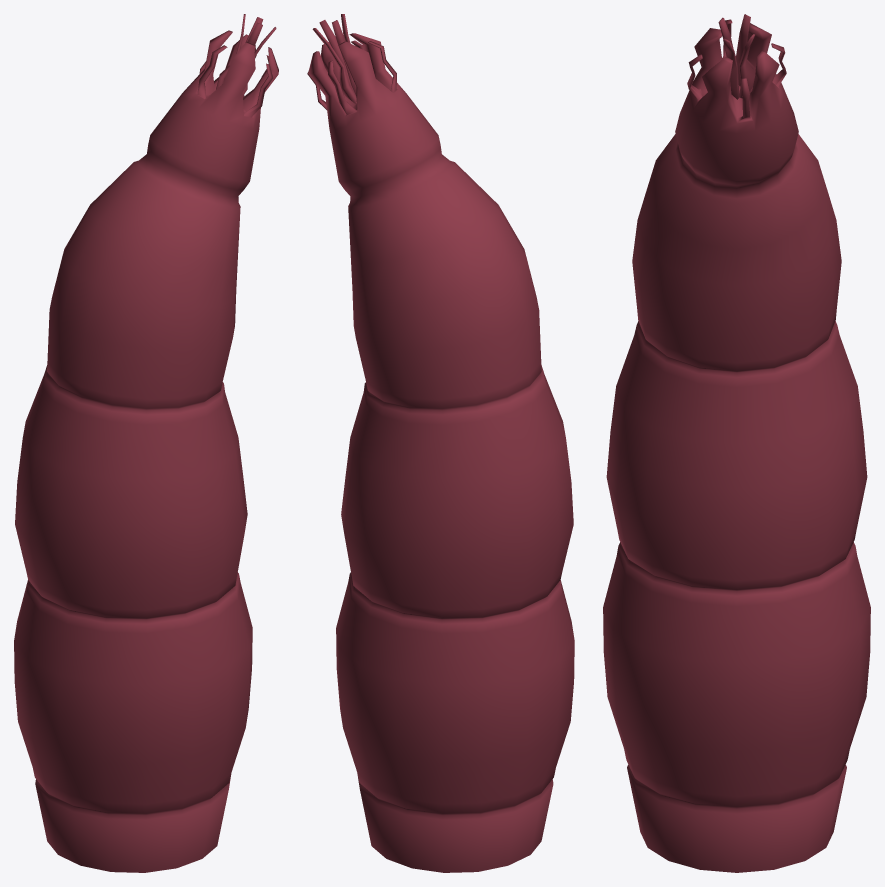
The model's file is worm.glb.
3 views of the same model, side by side, from view 1: azimuth 30°, elevation 25°; view 2: azimuth 150°, elevation 25°; view 3: azimuth 270°, elevation 25° (orthographic). The views are drawn at different scales.
Visible parts, largest first — view 1: worm; view 2: worm; view 3: worm.
Part boxes in pixels (x1,y1,x2,y2): worm: [14, 14, 278, 872]; worm: [307, 14, 574, 872]; worm: [603, 14, 870, 872].
Bounding box in the file's own units: 0.5086 × 1.55 × 0.4283.
